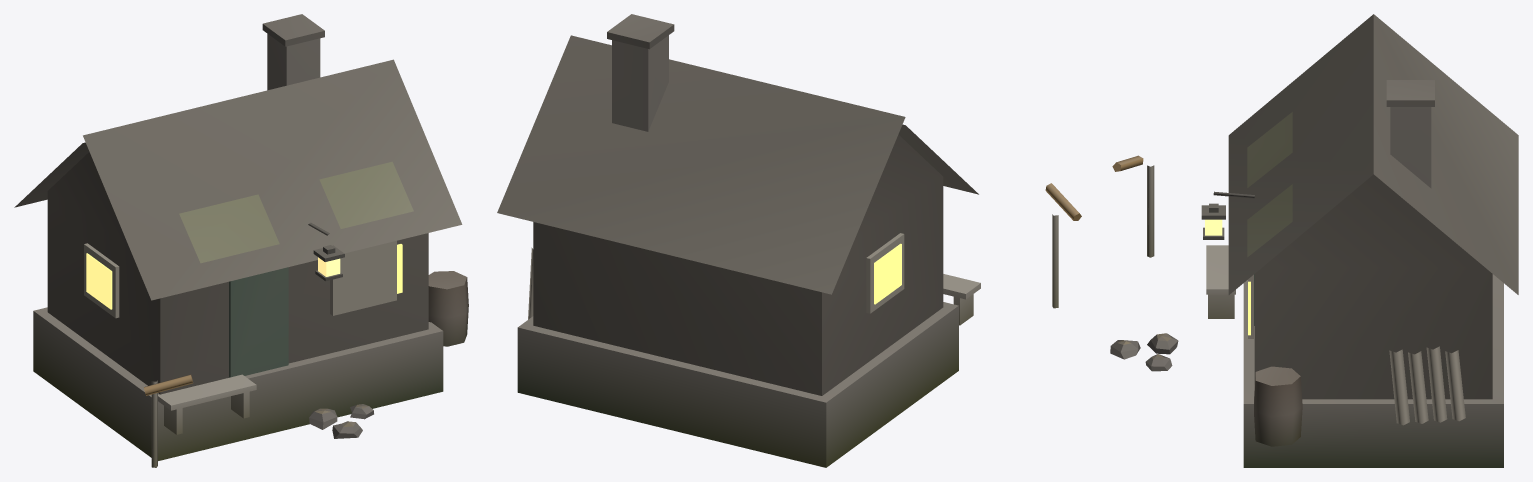
File: wreck_cove_warden_hut.glb
3 renders of one model, left to right at view 1: azimuth 30°, elevation 25°; view 2: azimuth 150°, elevation 25°; view 3: azimuth 270°, elevation 25°, orthographic. The views are drawn at different scales.
Visible parts, largest first — view 1: body, hut_windows; view 2: body, hut_windows; view 3: body.
Part boxes in pixels (bbox=[...]): body: bbox=[14, 14, 468, 467]; hut_windows: bbox=[86, 244, 402, 309]; body: bbox=[497, 14, 1081, 467]; hut_windows: bbox=[874, 243, 901, 304]; body: bbox=[1110, 14, 1518, 467].
Size of the model in its own units: 6.37 by 5.07 by 5.49.
